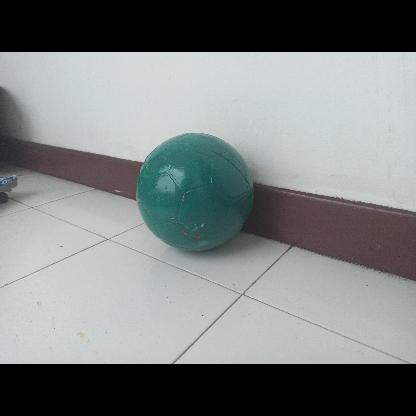green_ball: (136, 130, 256, 250)
